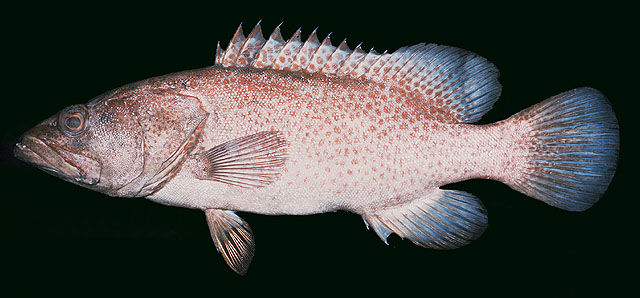fish: (14, 21, 621, 277)
